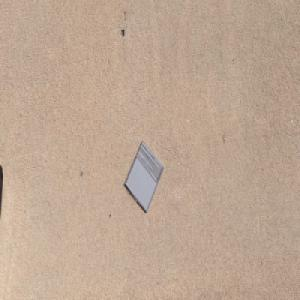PlasticPart: (124, 139, 164, 215)
